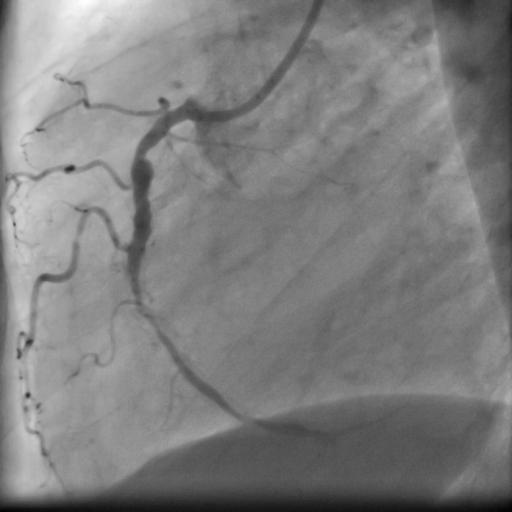Stenosis: (132, 141, 157, 160)
